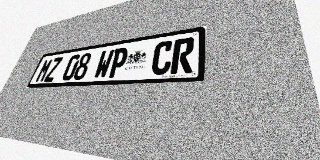0: (61, 54, 82, 81)
8: (72, 52, 93, 80)
C: (150, 40, 174, 75)
M: (34, 58, 54, 82)
P: (107, 47, 130, 78)
R: (170, 37, 195, 74)
W: (93, 49, 115, 79)
Z: (43, 57, 63, 82)
